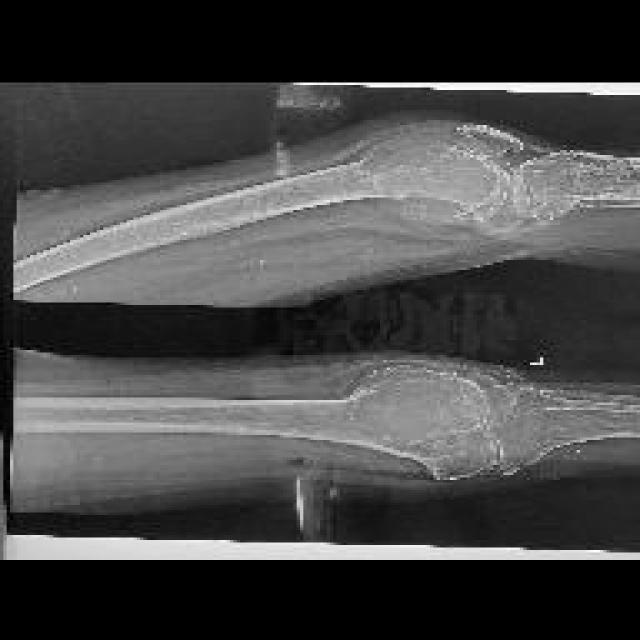bone-cancer: (351, 122, 491, 220), (354, 368, 499, 444)
